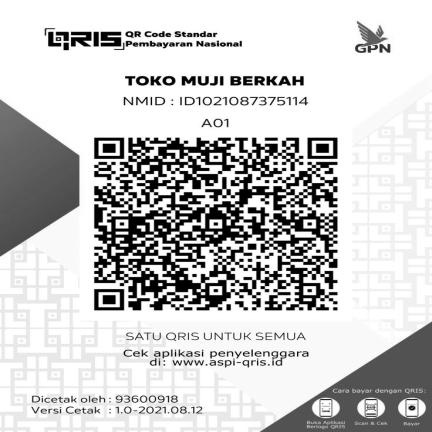Cara Pakai QRIS: (298, 386, 429, 430)
Cek Aplikasi Penyelenggara: (118, 347, 316, 371)
Dicetak Oleh: (29, 395, 180, 404)
Logo GPN: (343, 18, 401, 57)
Logo dan deskripsi QRIS: (40, 25, 254, 54)
Nama Merchant: (118, 70, 312, 89)
National Merchant ID: (117, 92, 317, 107)
QR Code: (81, 134, 348, 316)
Slogan: (117, 330, 316, 344)
Terminal ID: (194, 118, 236, 129)
Versi Cetak: (26, 405, 210, 415)
